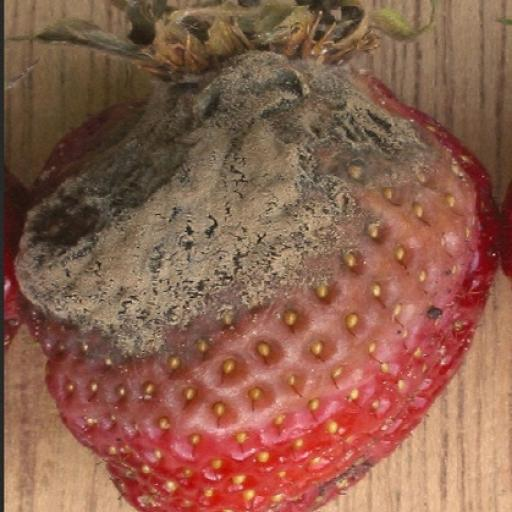Gray Mold: (13, 0, 487, 511)
